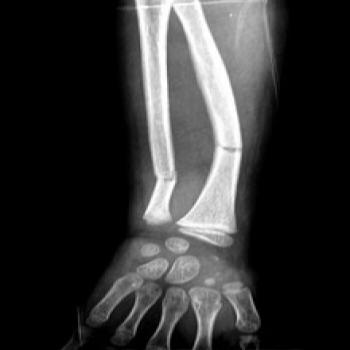Fracture: (202, 135, 260, 162), (150, 165, 186, 188)
